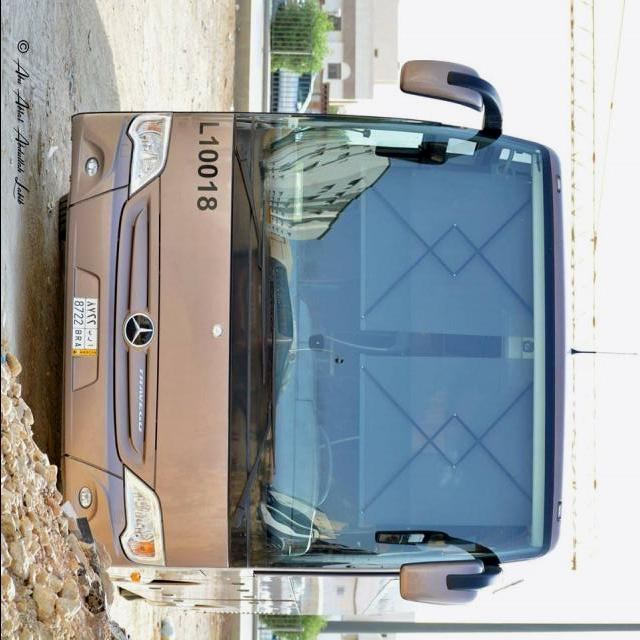bus: (58, 59, 571, 624)
